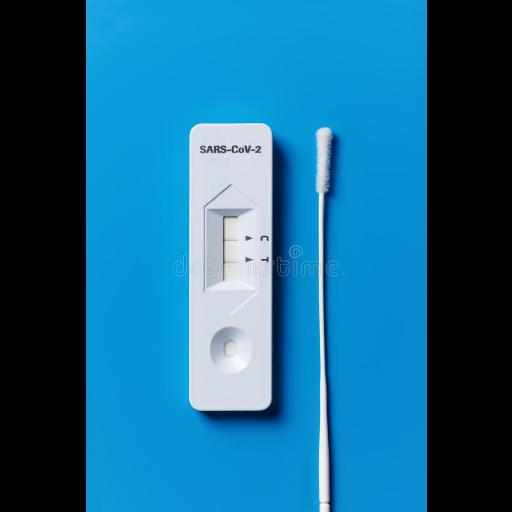Pos: (189, 122, 273, 410)
